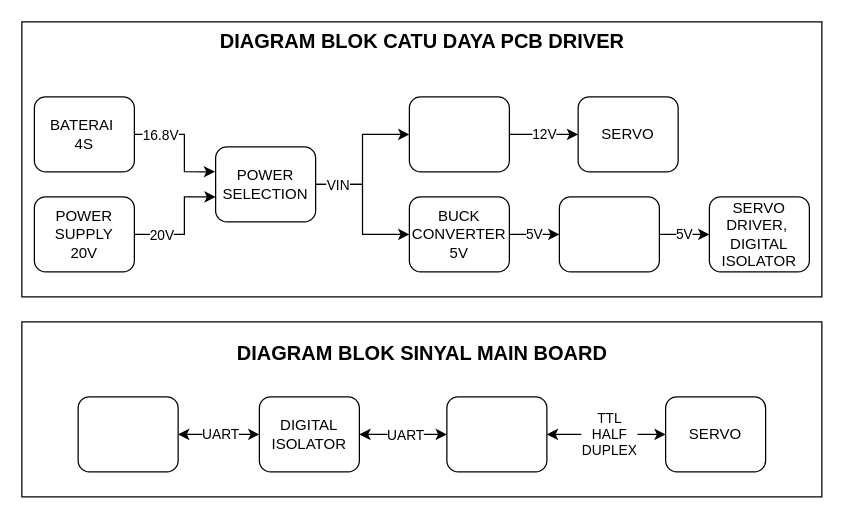
Image size: 844x519. Some labels were removed from this diagram. Each missing label, with the centre of its shape:
"5V EFUSE" belongs at [608,234].
"BUCK CONVERTER 12V" belongs at [458,134].
"SERVO DRIVER" belongs at [496,434].
"STM32" belongs at [127,434].
